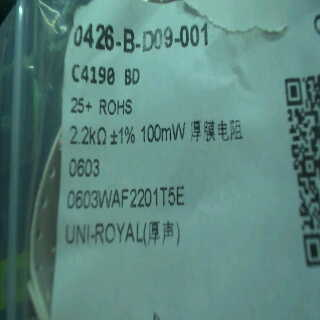2.2kR: (67, 119, 110, 151)
